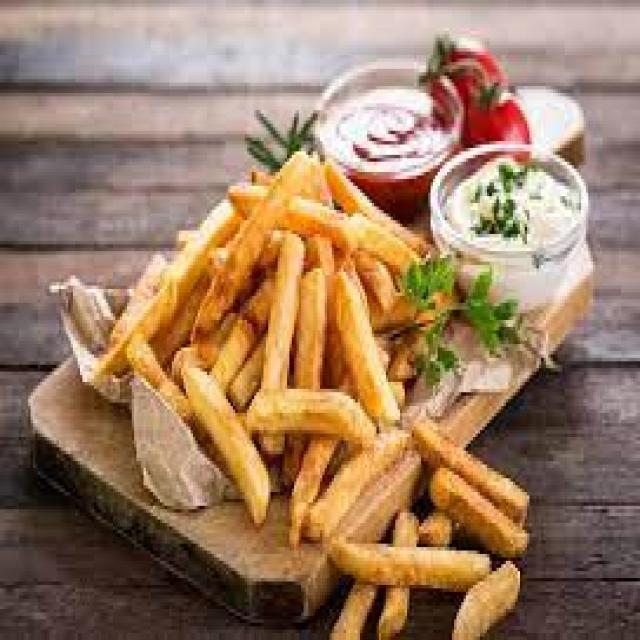햄버거: (149, 138, 430, 508)
